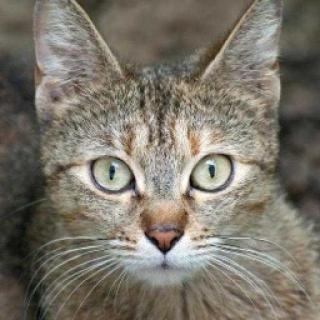cat: (25, 0, 291, 288)
nose: (136, 188, 198, 258)
